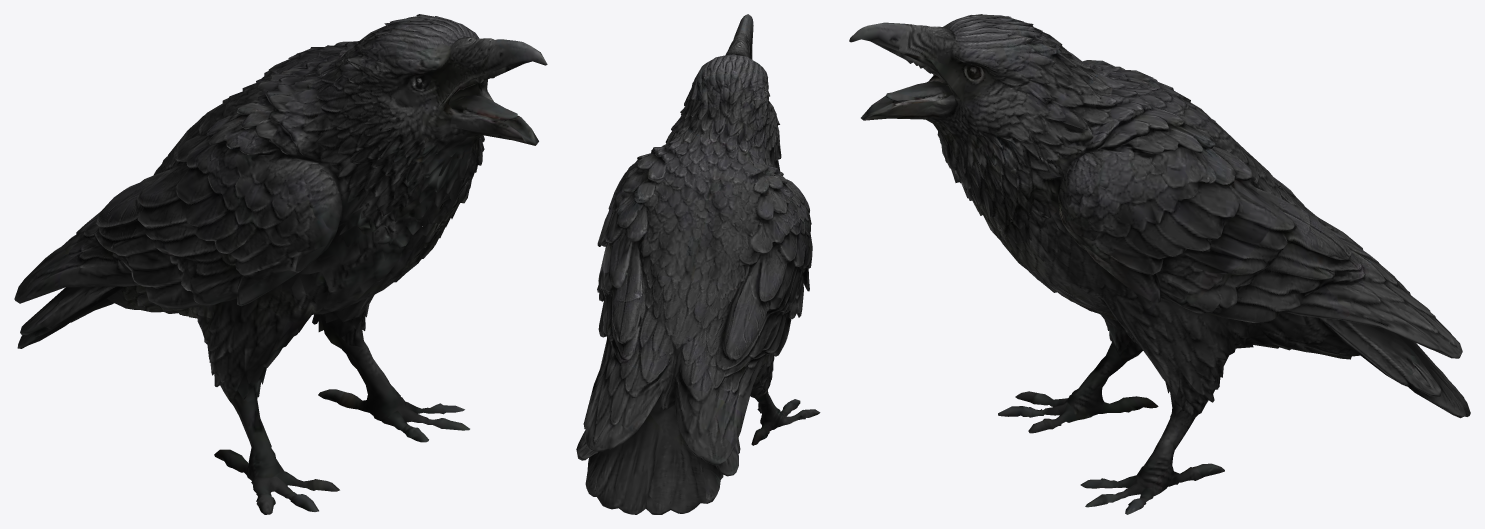
Rendered from raven.glb.
3 views of the same model, side by side, from view 1: azimuth 30°, elevation 25°; view 2: azimuth 150°, elevation 25°; view 3: azimuth 270°, elevation 25° (orthographic). The views are drawn at different scales.
Visible parts, largest first — view 1: tripo_node_ead9ee30-2f8a-4e4d-bcc9-6b0e4069c41b; view 2: tripo_node_ead9ee30-2f8a-4e4d-bcc9-6b0e4069c41b; view 3: tripo_node_ead9ee30-2f8a-4e4d-bcc9-6b0e4069c41b.
Boxes of the visible parts, x1,y1,x2,y2 form: tripo_node_ead9ee30-2f8a-4e4d-bcc9-6b0e4069c41b: (14,14,547,514); tripo_node_ead9ee30-2f8a-4e4d-bcc9-6b0e4069c41b: (576,14,820,514); tripo_node_ead9ee30-2f8a-4e4d-bcc9-6b0e4069c41b: (849,14,1470,514).
Bounding box in the file's own units: 0.274 × 0.3966 × 0.4894.
1 material, 1 textured.
